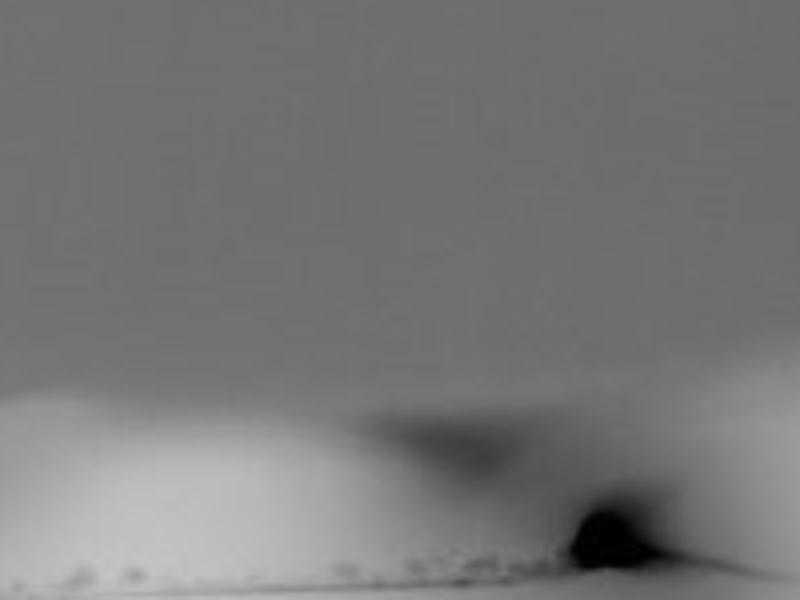defect: (571, 490, 673, 574)
